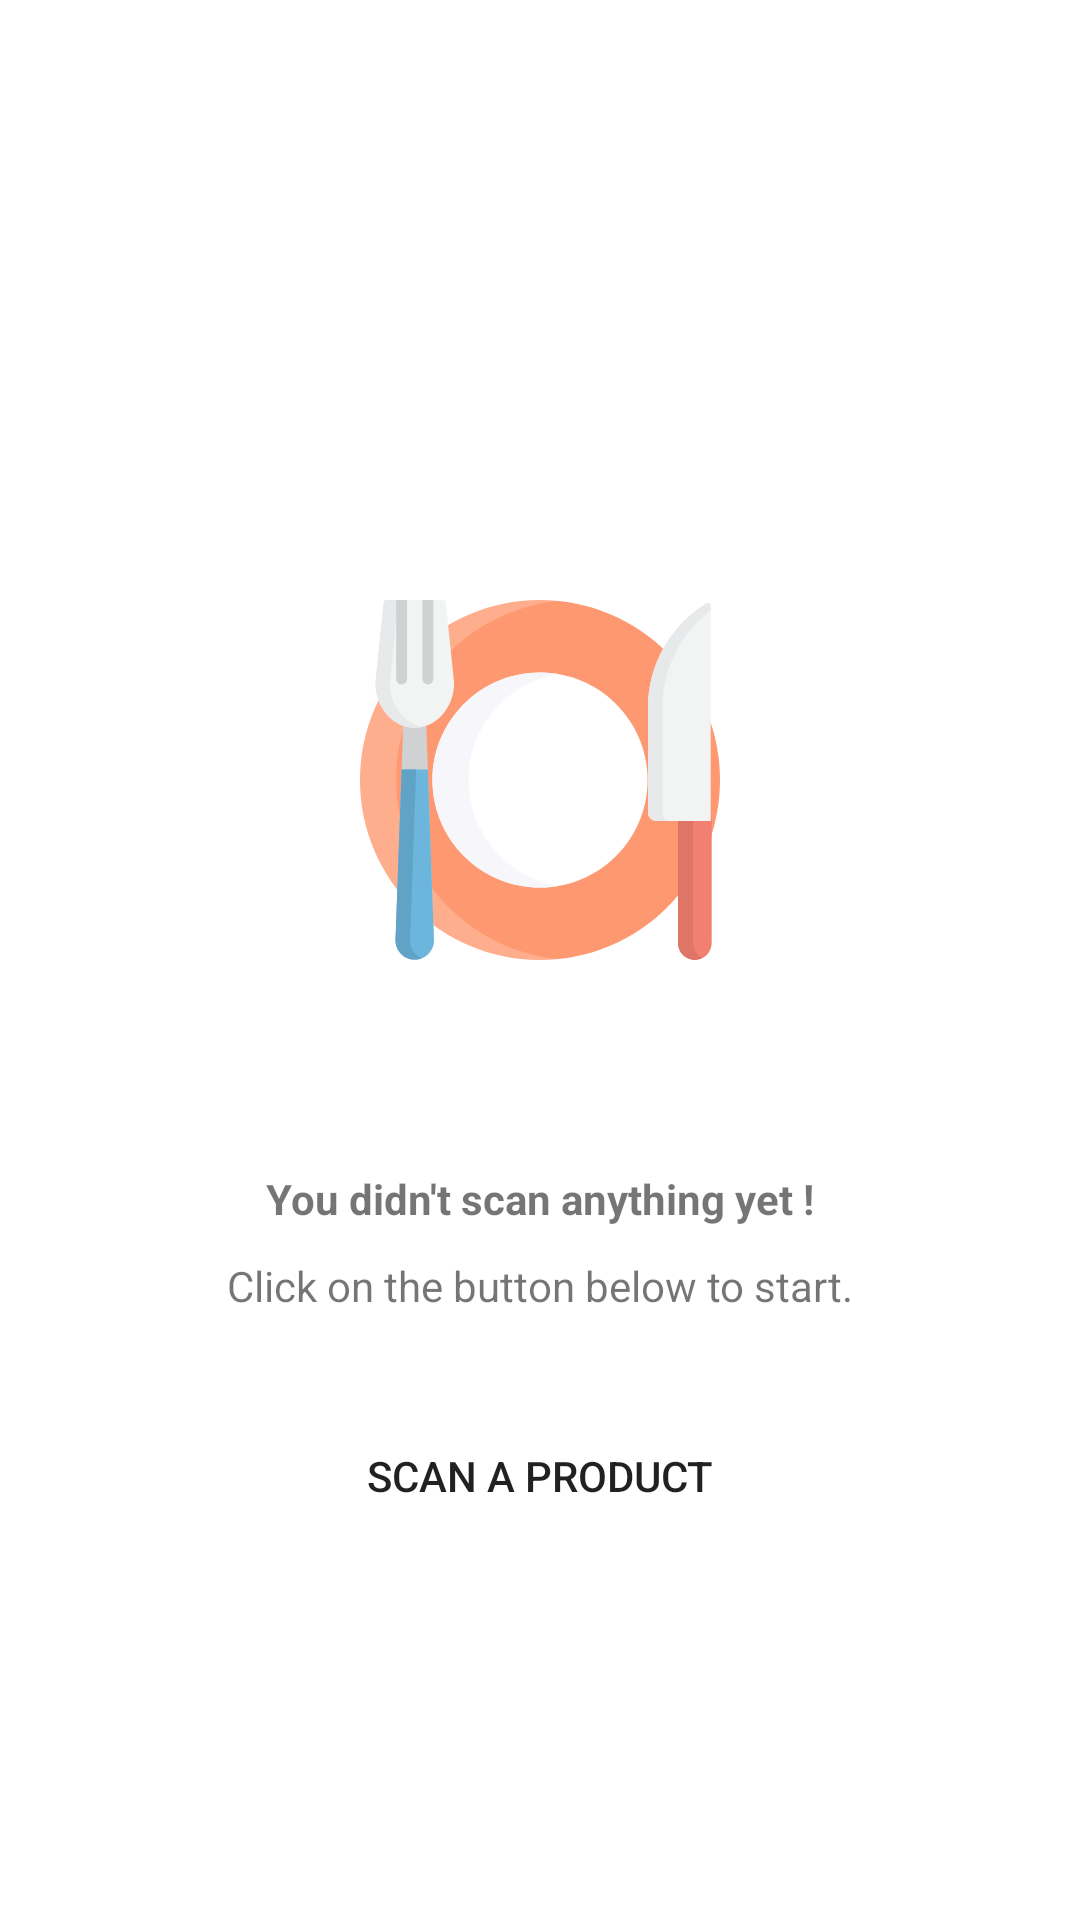

Icons on this 1080 x 1920 Android screen, each with the point to tap as point (x, y):
empty saved: point (540, 780)
